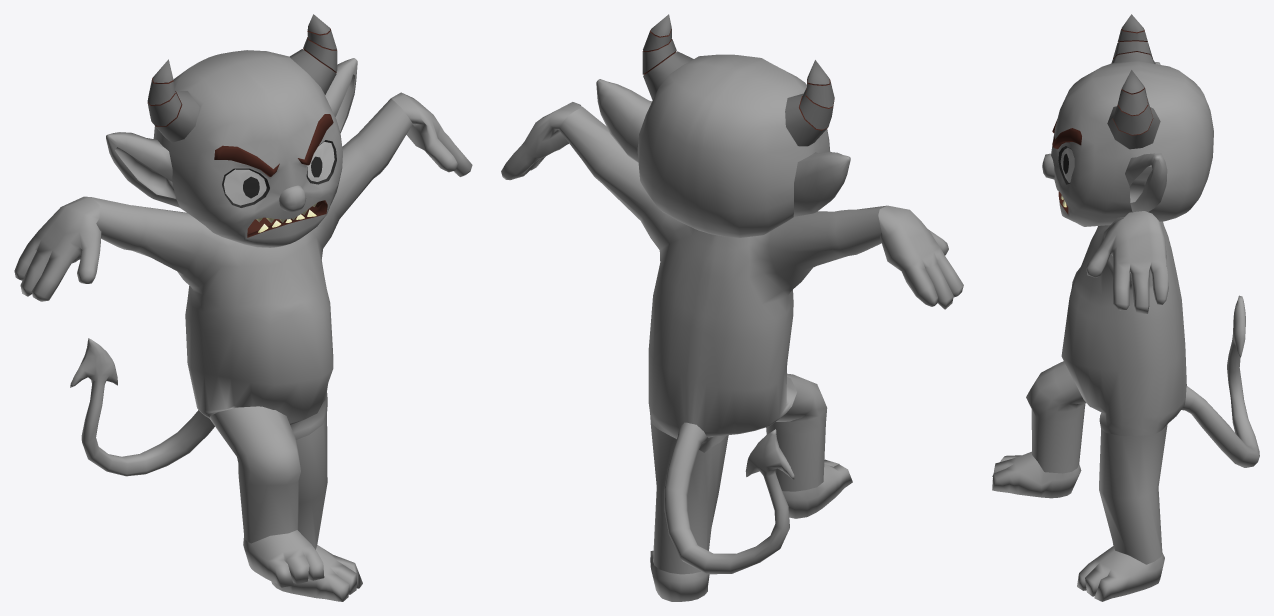
Rendered from Devil statue.fbx.
3 renders of one model, left to right at view 1: azimuth 30°, elevation 25°; view 2: azimuth 150°, elevation 25°; view 3: azimuth 270°, elevation 25°, orthographic. The views are drawn at different scales.
Visible parts, largest first — view 1: Davel Lowpoly LONG Raw; view 2: Davel Lowpoly LONG Raw; view 3: Davel Lowpoly LONG Raw.
Part boxes in pixels (x1,y1,x2,y2): Davel Lowpoly LONG Raw: (14, 14, 472, 601); Davel Lowpoly LONG Raw: (501, 14, 963, 601); Davel Lowpoly LONG Raw: (992, 14, 1259, 601).
Size of the model in its own units: 148 by 184 by 86.16.
